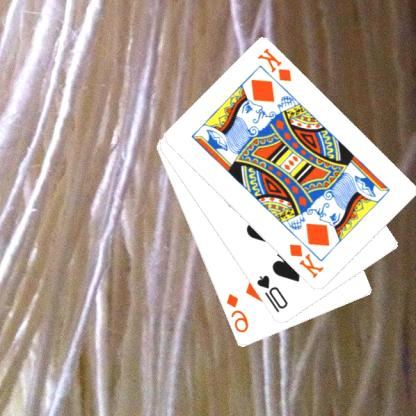10S: (256, 272, 292, 315)
9D: (225, 290, 252, 335)
KD: (287, 242, 327, 280), (257, 45, 295, 84)
